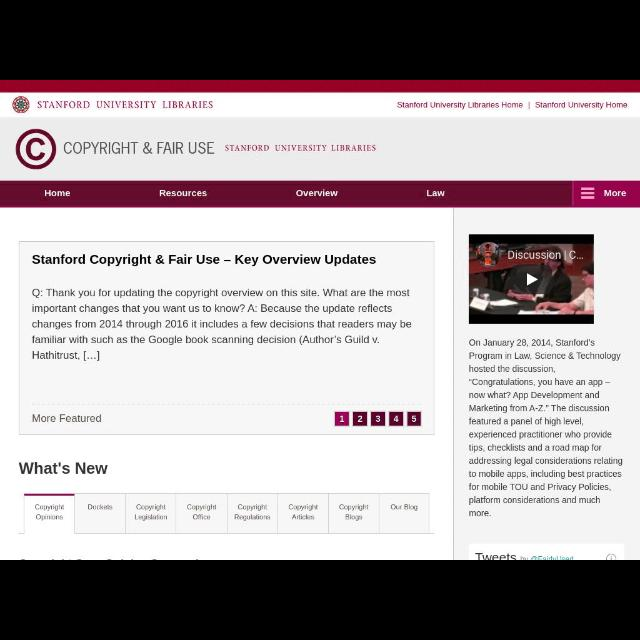icon: (580, 187, 596, 200), (605, 554, 617, 560)
image: (469, 234, 595, 324), (14, 127, 58, 171), (12, 96, 30, 114)
multitab: (22, 492, 432, 536), (1, 180, 639, 208)
pageindicator: (333, 410, 422, 428)
panel: (17, 239, 437, 436), (454, 209, 636, 559)
text: (31, 286, 416, 362), (467, 338, 628, 518), (31, 252, 378, 268), (62, 140, 216, 156), (36, 99, 214, 111), (17, 458, 109, 477), (224, 144, 378, 154), (396, 99, 524, 111), (29, 412, 103, 426), (232, 502, 272, 522), (32, 501, 68, 522), (534, 101, 628, 109), (185, 502, 219, 522), (286, 501, 320, 521), (134, 504, 168, 522), (338, 503, 370, 521), (158, 188, 208, 198), (295, 188, 339, 198), (474, 552, 518, 560), (518, 554, 574, 560), (388, 502, 419, 512), (42, 188, 72, 198), (601, 188, 629, 198), (86, 503, 114, 511), (425, 188, 447, 198)
textbutton: (572, 181, 640, 209)
toolbar: (1, 92, 638, 178)
